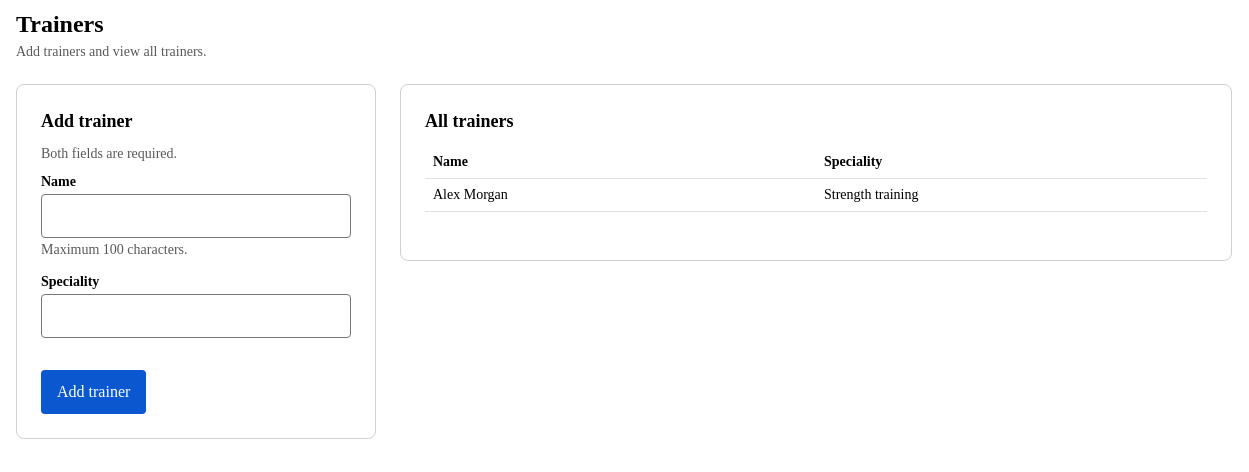
Scenario: Trainers page (FIT-941 T2) › Trainers / Success (AC-013) › shows the new row once, clears both fields, announces "Trainer added." which clears on edit
The image size is (1249, 472).
Step 1. Type "Sofia García" into the field labelled "Name" → coordinates (196, 216), box 41,194 -> 351,238
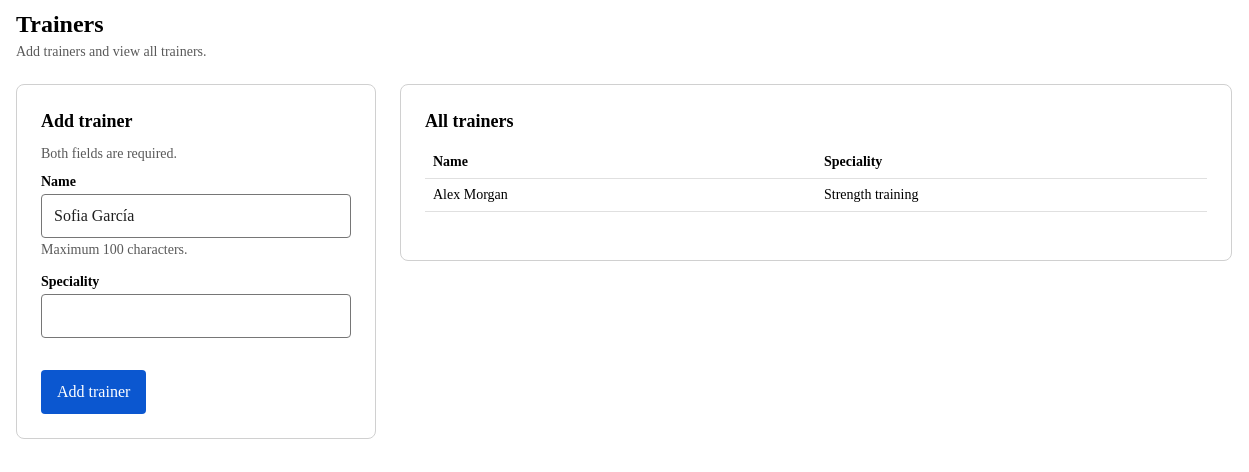
Step 2. Type "Pilates" into the field labelled "Speciality" → coordinates (196, 316), box 41,294 -> 351,338
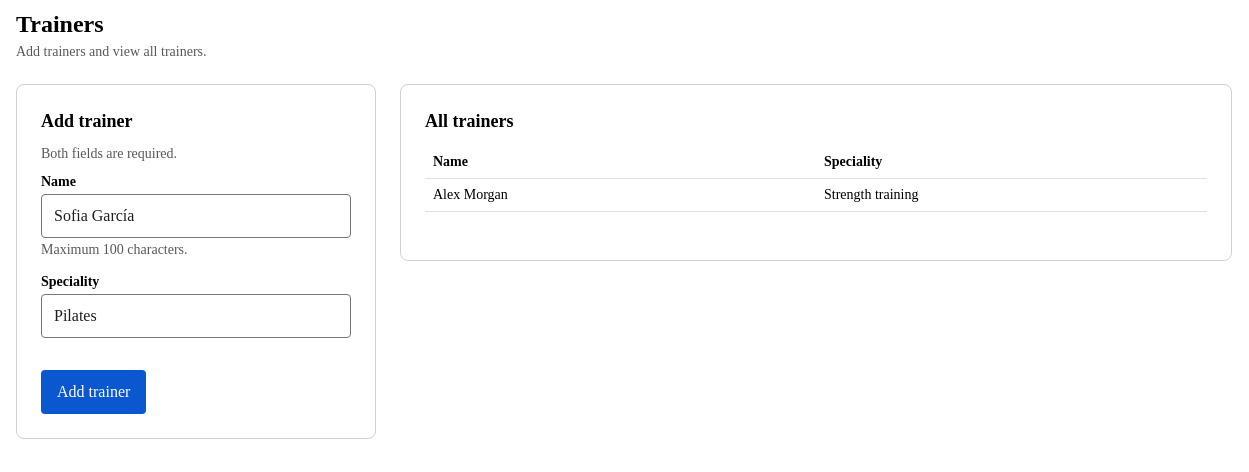
Step 3. Click the submit button → coordinates (94, 392), box 41,370 -> 146,414
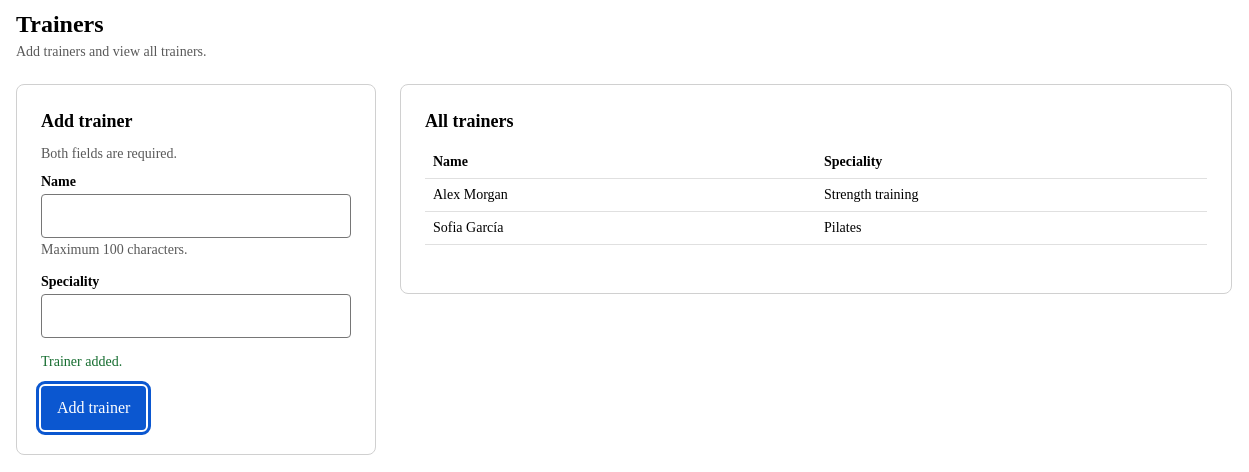
Check: the field labelled "Name" is empty
Check: the field labelled "Speciality" is empty, box 41,294 -> 351,338
Check: the text "Trainer added." is shown, box 41,354 -> 122,369
Step 4. Type "J" into the field labelled "Name" → coordinates (196, 216), box 41,194 -> 351,238
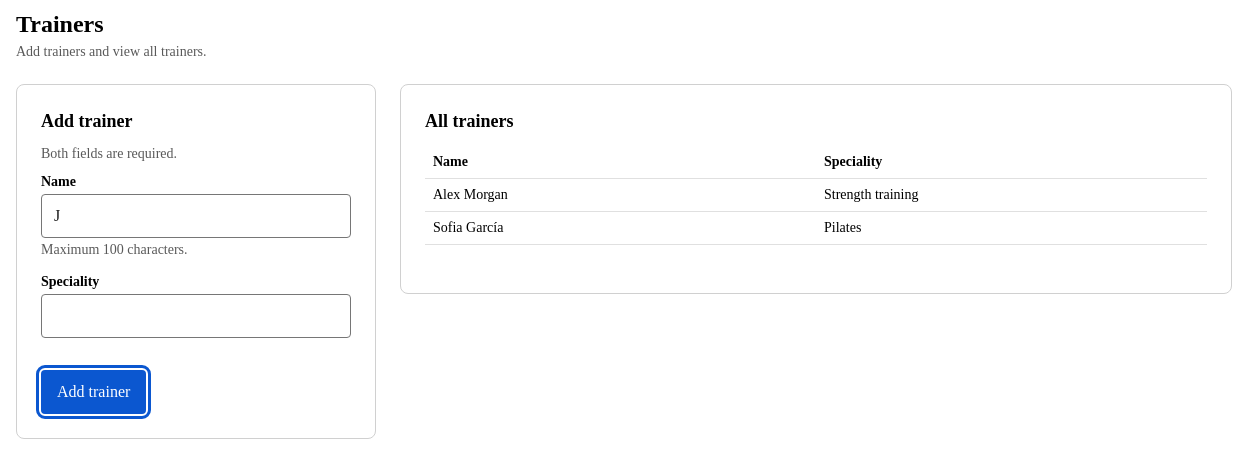
Check: the text "Trainer added." is gone
